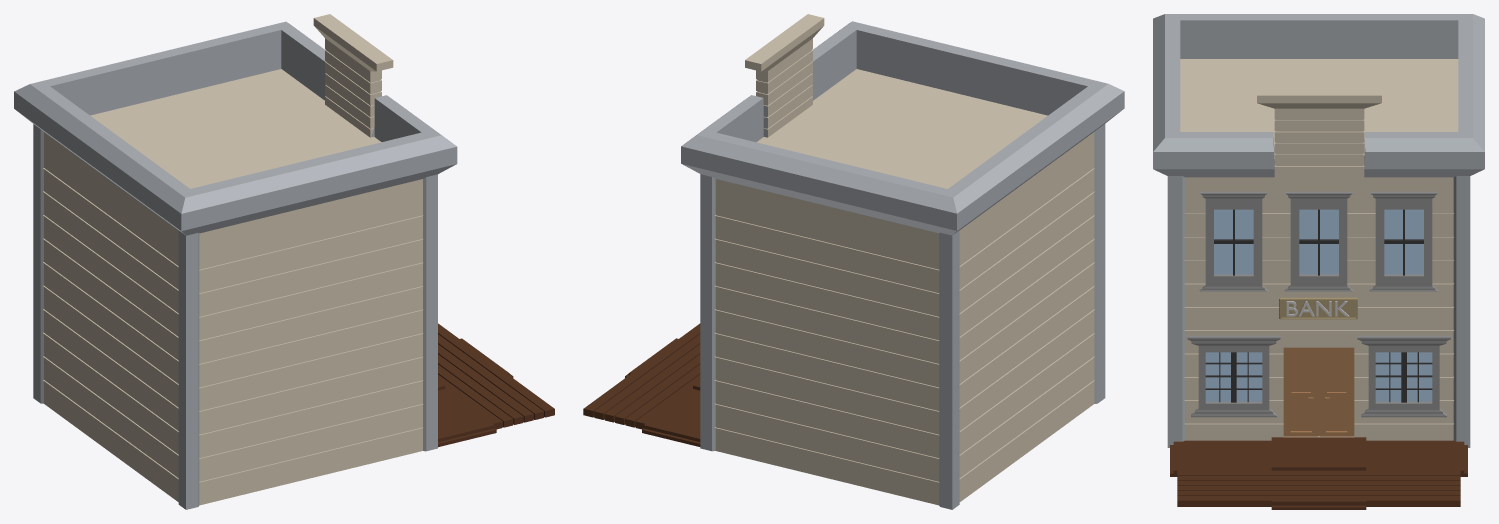
File: Bank.fbx
3 views of the same model, side by side, from view 1: azimuth 30°, elevation 25°; view 2: azimuth 150°, elevation 25°; view 3: azimuth 270°, elevation 25° (orthographic).
Visible parts, largest first — view 1: Bank_Merged; view 2: Bank_Merged; view 3: Bank_Merged.
Boxes of the visible parts, x1=… form: Bank_Merged: x1=14, y1=14, x2=554, y2=509; Bank_Merged: x1=583, y1=14, x2=1124, y2=509; Bank_Merged: x1=1153, y1=14, x2=1484, y2=509.
Bounding box in the file's own units: 633 × 549 × 468.
